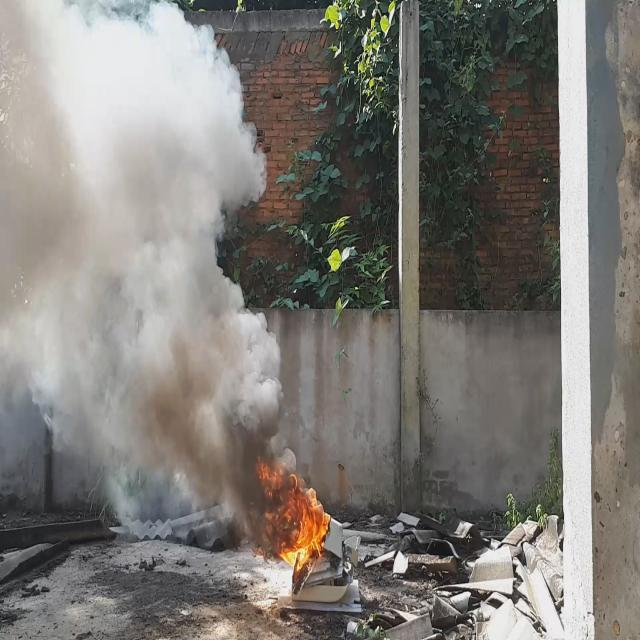Fire: (256, 454, 333, 575)
Smoke: (0, 3, 297, 559)
